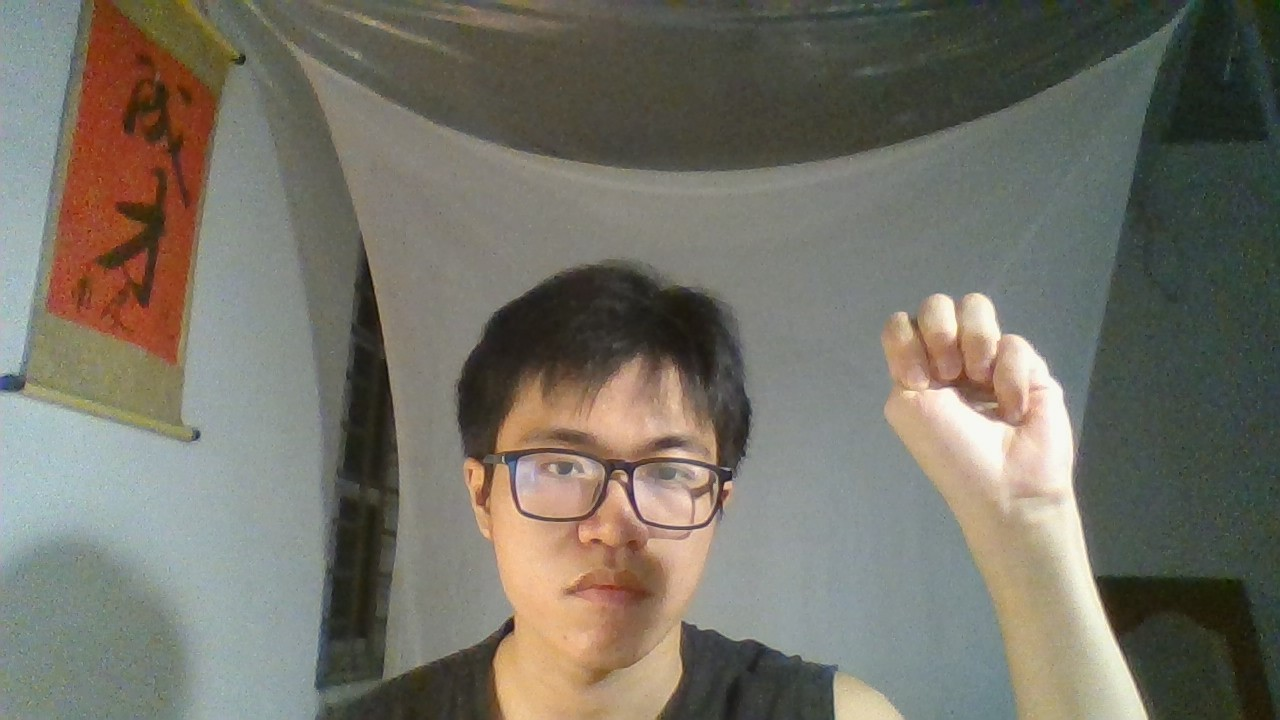m: (839, 261, 1107, 549)
